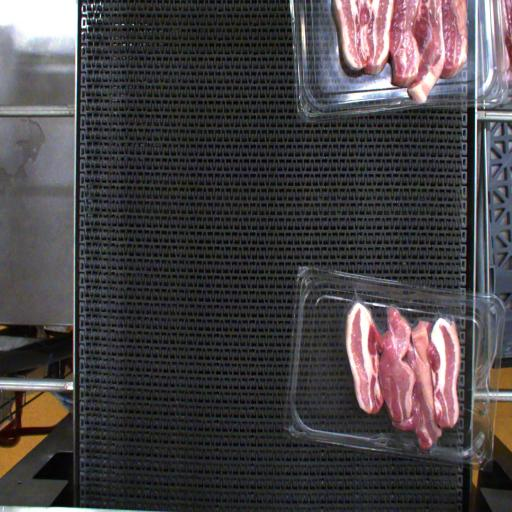packaging-error: (350, 284, 362, 302)
unsealed: (342, 298, 466, 342), (364, 422, 442, 459)
